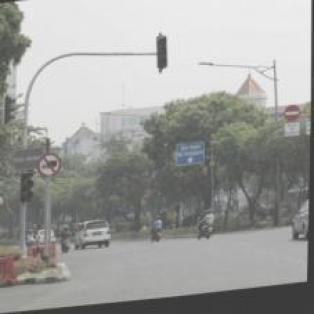Semaforo Verde: (158, 39, 170, 72)
